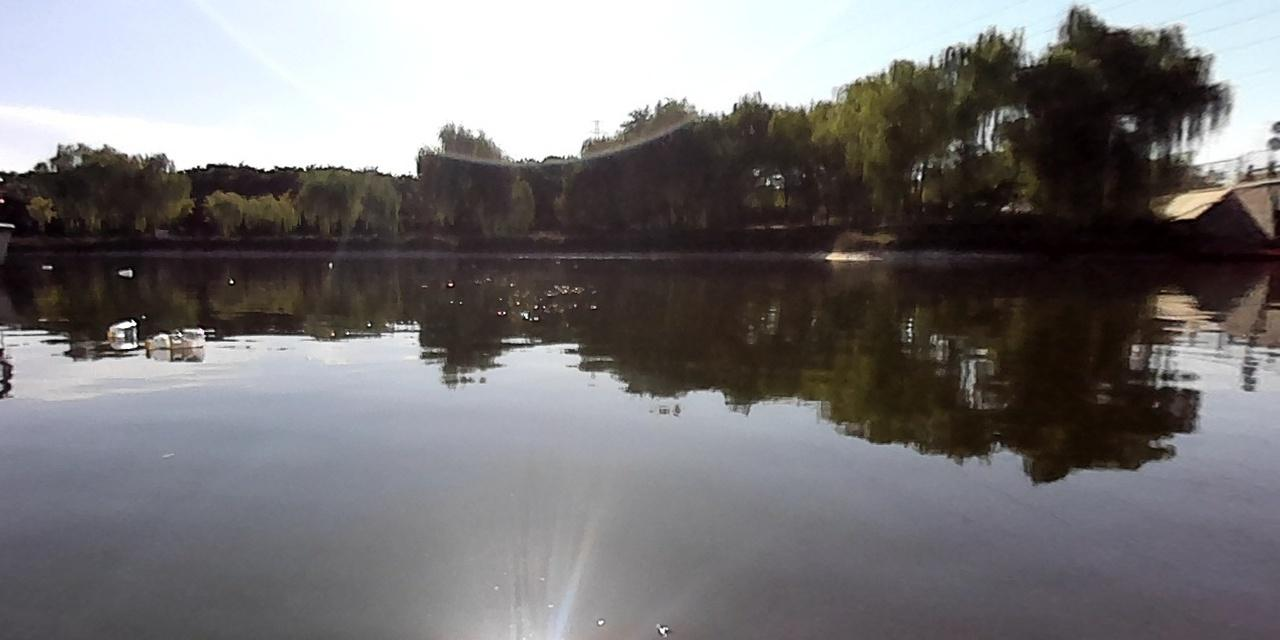bottle: (145, 332, 203, 351), (106, 321, 131, 339), (116, 268, 132, 279)
